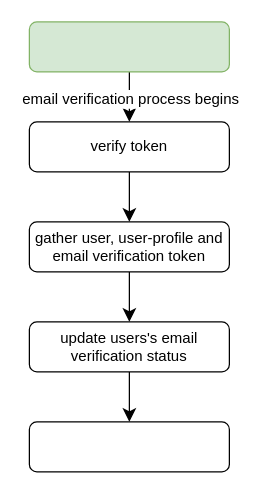
The diagram is 260 pixels wide and 494 high, and some of its shapes have lost their labels. The centre of each missing label's shape, as x and y in pixels:
"update email verification token's status" belongs at pixel 128 446.
"user clicks the token" belongs at pixel 128 46.
